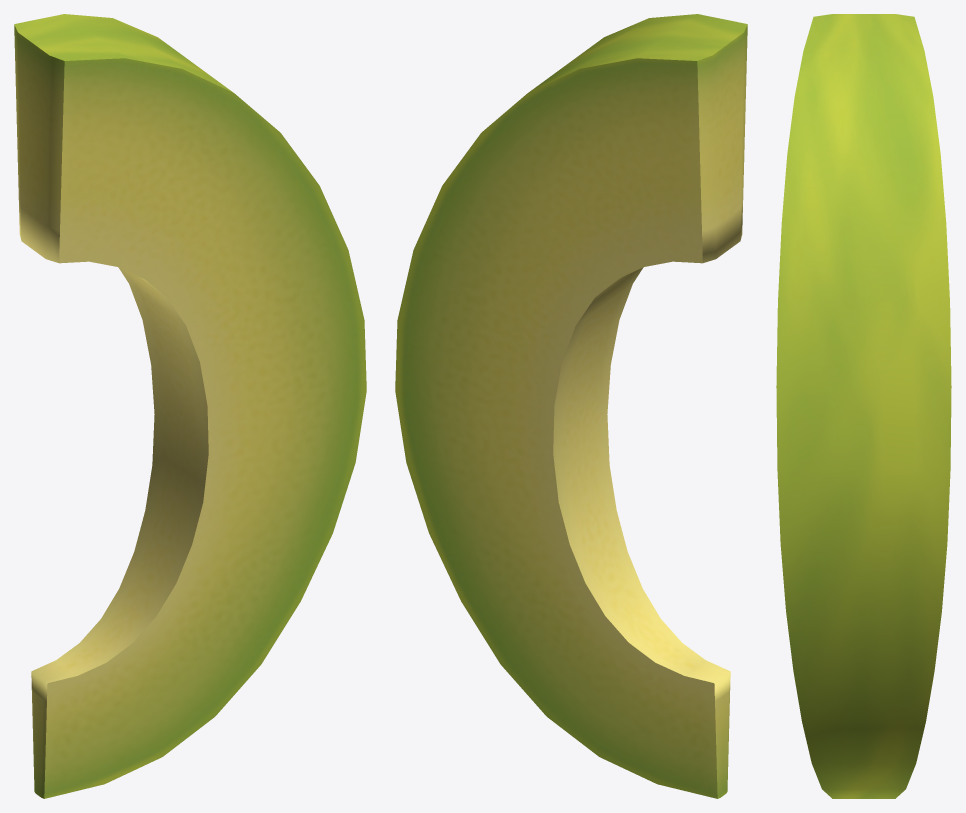
The model's file is AvocadoSlice_1.fbx.
3 renders of one model, left to right at view 1: azimuth 30°, elevation 25°; view 2: azimuth 150°, elevation 25°; view 3: azimuth 270°, elevation 25°, orthographic.
Visible parts, largest first — view 1: AvocadoSlice_1; view 2: AvocadoSlice_1; view 3: AvocadoSlice_1.
Boxes of the visible parts, box(x1,y1,x2,y2) form: AvocadoSlice_1: box(14, 14, 366, 798); AvocadoSlice_1: box(395, 14, 747, 798); AvocadoSlice_1: box(776, 14, 951, 798).
Size of the model in its own units: 0.032 by 0.079 by 0.0166.
1 material, 1 textured.
